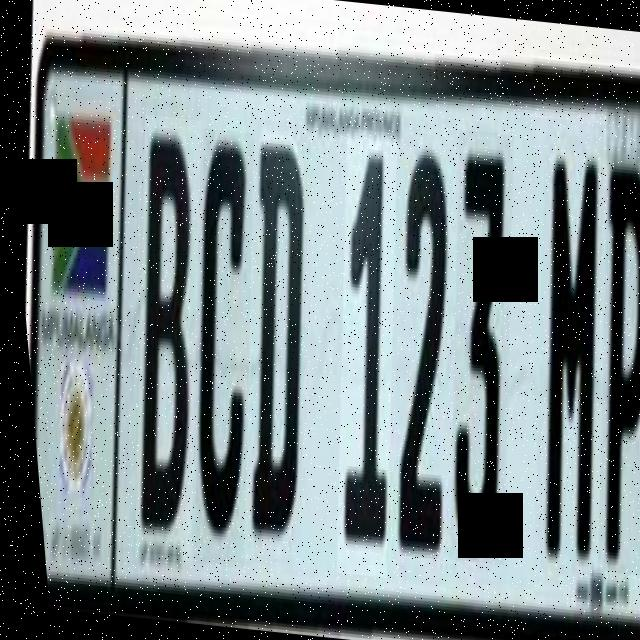1: (297, 128, 423, 578)
3: (412, 130, 539, 564)
B: (96, 115, 227, 561)
C: (156, 128, 280, 569)
D: (209, 119, 336, 554)
M: (496, 133, 629, 576)
P: (560, 145, 640, 575)
